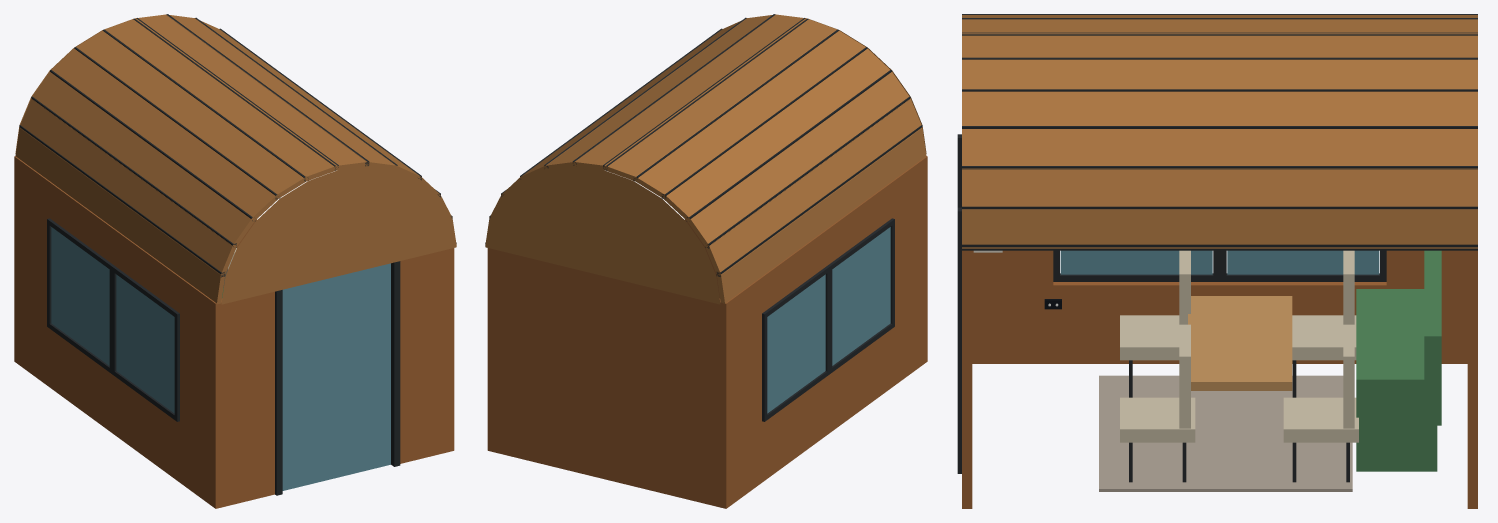
The model's file is A4_interior_measured.glb.
3 views of the same model, side by side, from view 1: azimuth 30°, elevation 25°; view 2: azimuth 150°, elevation 25°; view 3: azimuth 270°, elevation 25° (orthographic). The views are drawn at different scales.
Parts seen in each view (by area): view 1: ARCH_A4_DOOR_GLASS, ARCH_A4_ROOF_SOUTH_END_CAP, ARCH_A4_WEST_WALL_BELOW_WINDOWS, ARCH_A4_SOUTH_WALL_L, ARCH_A4_SOUTH_WALL_R, ARCH_A4_ROOF_PANEL_04, ARCH_A4_ROOF_PANEL_03, ARCH_A4_WEST_WALL_ABOVE_WINDOWS, ARCH_A4_ROOF_PANEL_05, ARCH_A4_ROOF_PANEL_02, ARCH_A4_ROOF_PANEL_06, ARCH_A4_ROOF_PANEL_01 (+21 smaller); view 2: ARCH_A4_NORTH_WALL, ARCH_A4_ROOF_NORTH_END_CAP, ARCH_A4_WEST_WALL_BELOW_WINDOWS, ARCH_A4_ROOF_PANEL_04, ARCH_A4_ROOF_PANEL_03, ARCH_A4_ROOF_PANEL_05, ARCH_A4_WEST_WALL_ABOVE_WINDOWS, ARCH_A4_ROOF_PANEL_02, ARCH_A4_ROOF_PANEL_06, ARCH_A4_ROOF_PANEL_01, ARCH_A4_WEST_WINDOW_01, ARCH_A4_WEST_WINDOW_02 (+17 smaller); view 3: FURN_A4_RUG_01, ARCH_A4_ROOF_PANEL_11, ARCH_A4_WEST_WALL_BELOW_WINDOWS, ARCH_A4_ROOF_PANEL_10, ARCH_A4_ROOF_PANEL_12, ARCH_A4_ROOF_PANEL_09, ARCH_A4_ROOF_PANEL_08, FURN_A4_SOFA_01, ARCH_A4_ROOF_PANEL_07, FURN_A4_MEETING_TABLE_01, ARCH_A4_ROOF_PANEL_06, ARCH_A4_ROOF_RIB_12 (+26 smaller).
Boxes of the visible parts, x1,y1,x2,y2 form: ARCH_A4_DOOR_GLASS: [282, 263, 390, 490]; ARCH_A4_ROOF_SOUTH_END_CAP: [221, 166, 456, 304]; ARCH_A4_WEST_WALL_BELOW_WINDOWS: [14, 300, 222, 508]; ARCH_A4_SOUTH_WALL_L: [219, 291, 274, 507]; ARCH_A4_SOUTH_WALL_R: [400, 248, 454, 463]; ARCH_A4_ROOF_PANEL_04: [52, 47, 279, 220]; ARCH_A4_ROOF_PANEL_03: [31, 72, 255, 245]; ARCH_A4_WEST_WALL_ABOVE_WINDOWS: [14, 156, 222, 339]; ARCH_A4_ROOF_PANEL_05: [76, 29, 307, 198]; ARCH_A4_ROOF_PANEL_02: [19, 98, 236, 274]; ARCH_A4_ROOF_PANEL_06: [105, 18, 337, 181]; ARCH_A4_ROOF_PANEL_01: [15, 128, 224, 304]; ARCH_A4_NORTH_WALL: [487, 248, 722, 507]; ARCH_A4_ROOF_NORTH_END_CAP: [485, 166, 720, 304]; ARCH_A4_WEST_WALL_BELOW_WINDOWS: [723, 300, 927, 508]; ARCH_A4_ROOF_PANEL_04: [662, 47, 889, 220]; ARCH_A4_ROOF_PANEL_03: [686, 72, 910, 247]; ARCH_A4_ROOF_PANEL_05: [634, 29, 865, 197]; ARCH_A4_WEST_WALL_ABOVE_WINDOWS: [723, 156, 927, 339]; ARCH_A4_ROOF_PANEL_02: [705, 98, 922, 275]; ARCH_A4_ROOF_PANEL_06: [604, 18, 836, 180]; ARCH_A4_ROOF_PANEL_01: [716, 128, 926, 303]; ARCH_A4_WEST_WINDOW_01: [832, 227, 890, 365]; ARCH_A4_WEST_WINDOW_02: [767, 274, 825, 413]; FURN_A4_RUG_01: [1099, 375, 1352, 491]; ARCH_A4_ROOF_PANEL_11: [962, 169, 1477, 209]; ARCH_A4_WEST_WALL_BELOW_WINDOWS: [972, 282, 1467, 363]; ARCH_A4_ROOF_PANEL_10: [962, 129, 1477, 168]; ARCH_A4_ROOF_PANEL_12: [962, 210, 1477, 248]; ARCH_A4_ROOF_PANEL_09: [962, 89, 1477, 125]; ARCH_A4_ROOF_PANEL_08: [962, 57, 1477, 88]; FURN_A4_SOFA_01: [1356, 289, 1437, 471]; ARCH_A4_ROOF_PANEL_07: [962, 33, 1477, 57]; FURN_A4_MEETING_TABLE_01: [1188, 296, 1292, 390]; ARCH_A4_ROOF_PANEL_06: [962, 19, 1477, 34]; ARCH_A4_ROOF_RIB_12: [962, 244, 1477, 250].
Size of the model in its own units: 2.49 by 3.06 by 3.64.
